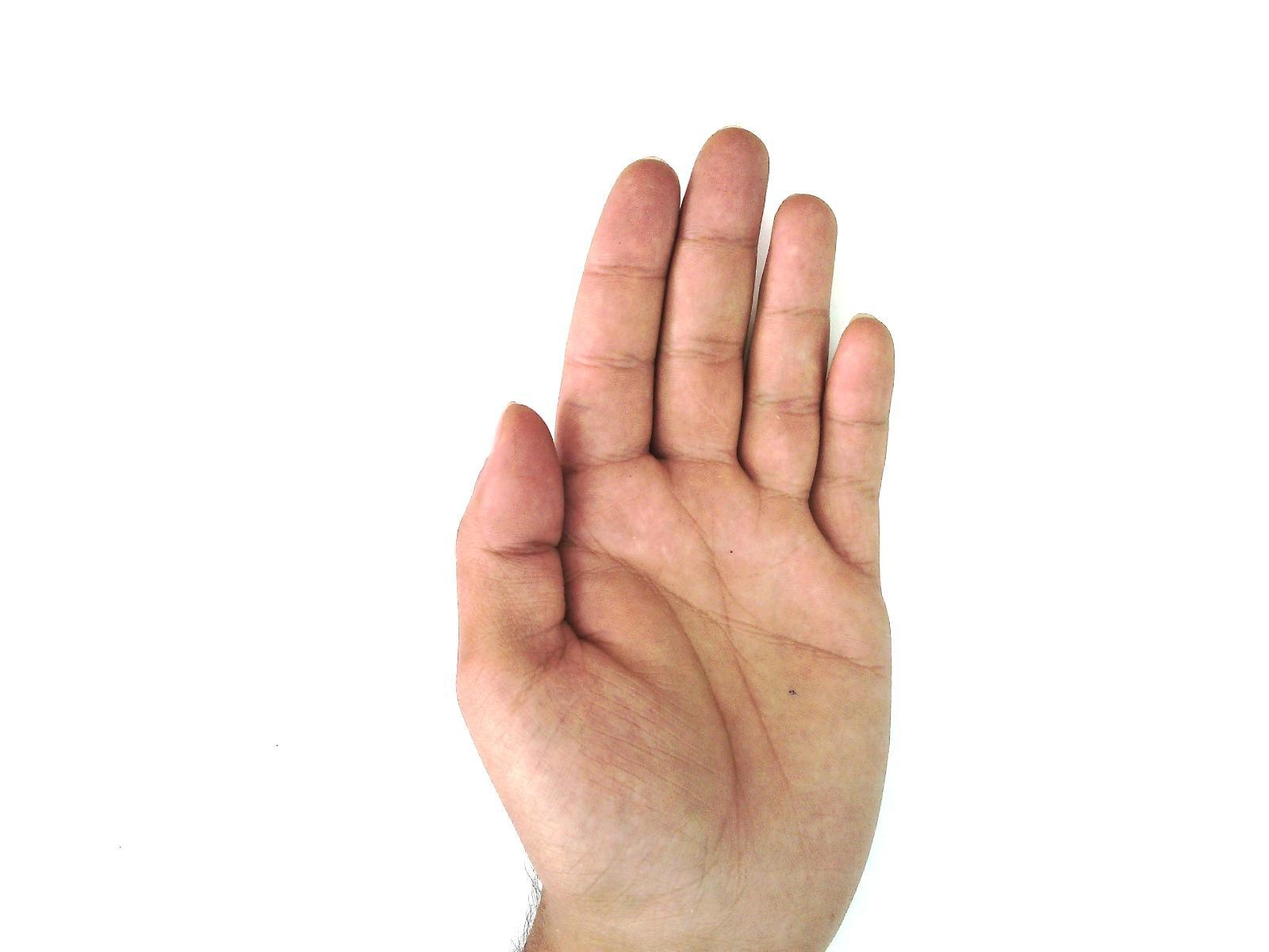open_palm: (451, 126, 900, 950)
